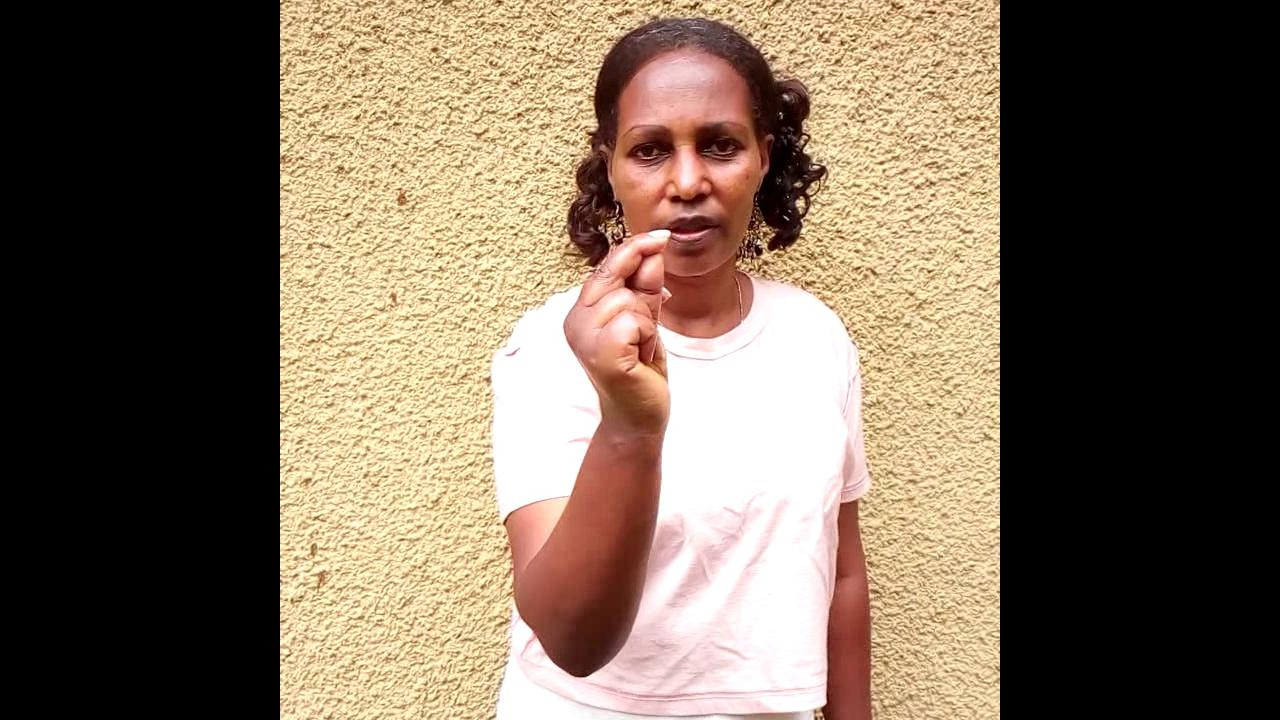CHE: (560, 227, 674, 497)
